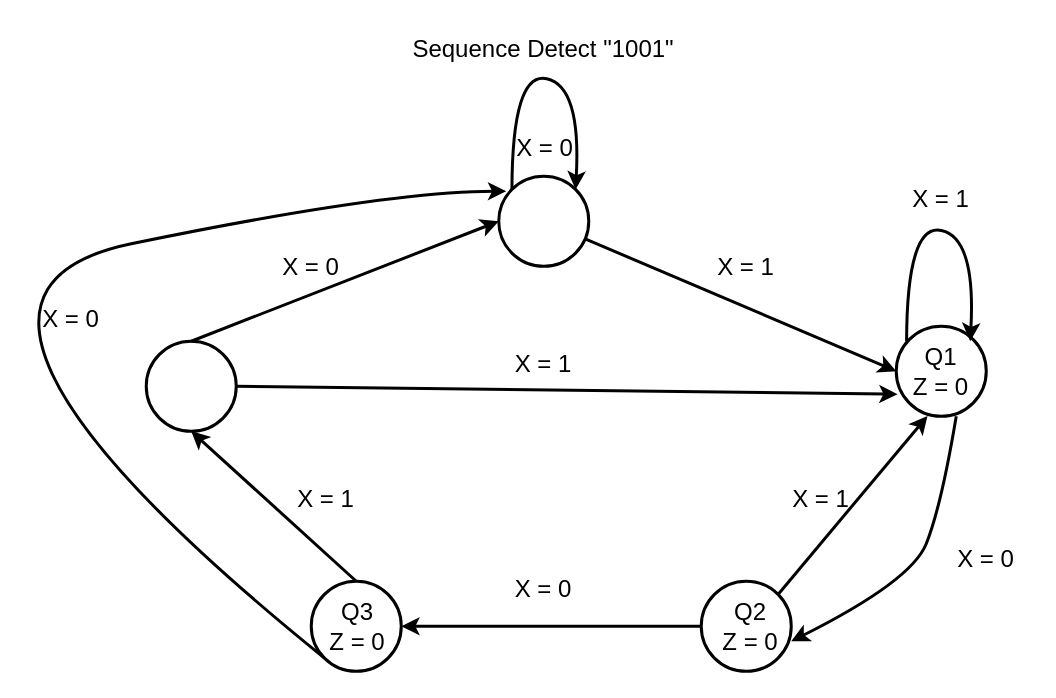
Some shapes in this 1056 by 698 pixel diagram are drawn without their labels. The box of each missing label's shape, as (x1, y1, x2, y2) in pixels:
Q0 Z = 0: (496, 174, 590, 267)
Q4 Z = 0: (144, 339, 237, 432)
